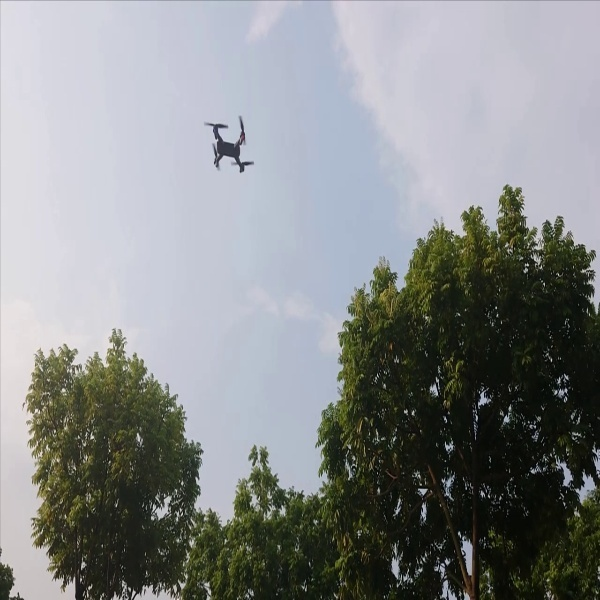drone: (201, 104, 262, 180)
